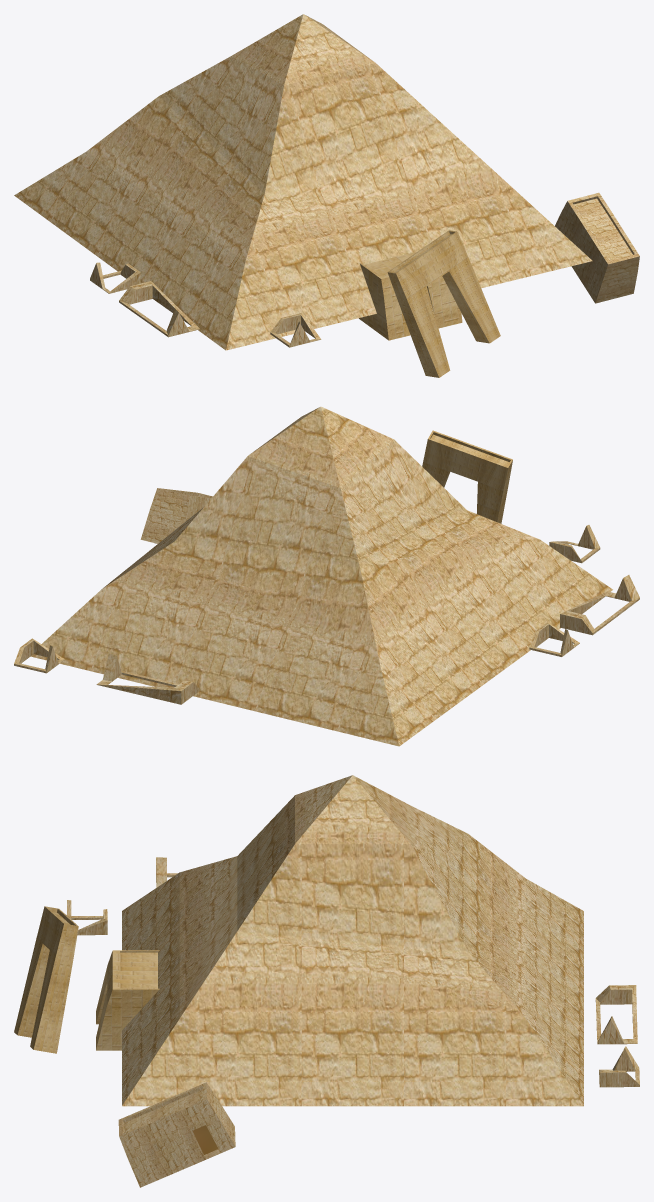
File: Pyramid Ruined.obj
The picture shows the model from 3 angles, top to bottom: view 1: azimuth 30°, elevation 25°; view 2: azimuth 150°, elevation 25°; view 3: azimuth 270°, elevation 25°; orthographic projection. The views are drawn at different scales.
Parts seen in each view (by area): view 1: Cube, Cube.012_Cube.013, Cube.005, Cube.001, Cube.004_Cube.014, Cube.003_Cube.012, Cube.002_Cube.010; view 2: Cube, Cube.012_Cube.013, Cube.005, Cube.007_Cube.003, Cube.004_Cube.014, Cube.002_Cube.010, Cube.006_Cube.002, Cube.003_Cube.012; view 3: Cube, Cube.005, Cube.012_Cube.013, Cube.001, Cube.007_Cube.003, Cube.006_Cube.002, Cube.003_Cube.012.
Boxes of the visible parts, x1,y1,x2,y2 form: Cube: (14, 14, 592, 350); Cube.012_Cube.013: (387, 230, 500, 377); Cube.005: (555, 192, 639, 303); Cube.001: (359, 252, 462, 340); Cube.004_Cube.014: (119, 281, 199, 337); Cube.003_Cube.012: (270, 313, 321, 347); Cube.002_Cube.010: (90, 262, 140, 293); Cube: (31, 406, 612, 746); Cube.012_Cube.013: (422, 430, 512, 523); Cube.005: (140, 488, 212, 543); Cube.007_Cube.003: (96, 653, 199, 704); Cube.004_Cube.014: (560, 575, 639, 635); Cube.002_Cube.010: (529, 622, 579, 656); Cube.006_Cube.002: (14, 638, 64, 673); Cube.003_Cube.012: (549, 525, 600, 563); Cube: (122, 775, 583, 1106); Cube.005: (118, 1082, 235, 1187); Cube.012_Cube.013: (14, 906, 78, 1053); Cube.001: (96, 950, 159, 1050); Cube.007_Cube.003: (595, 985, 637, 1044); Cube.006_Cube.002: (599, 1046, 639, 1087); Cube.003_Cube.012: (66, 900, 107, 935).
Bounding box in the file's own units: 0.9254 × 0.5107 × 1.
2 materials, 2 textured.
